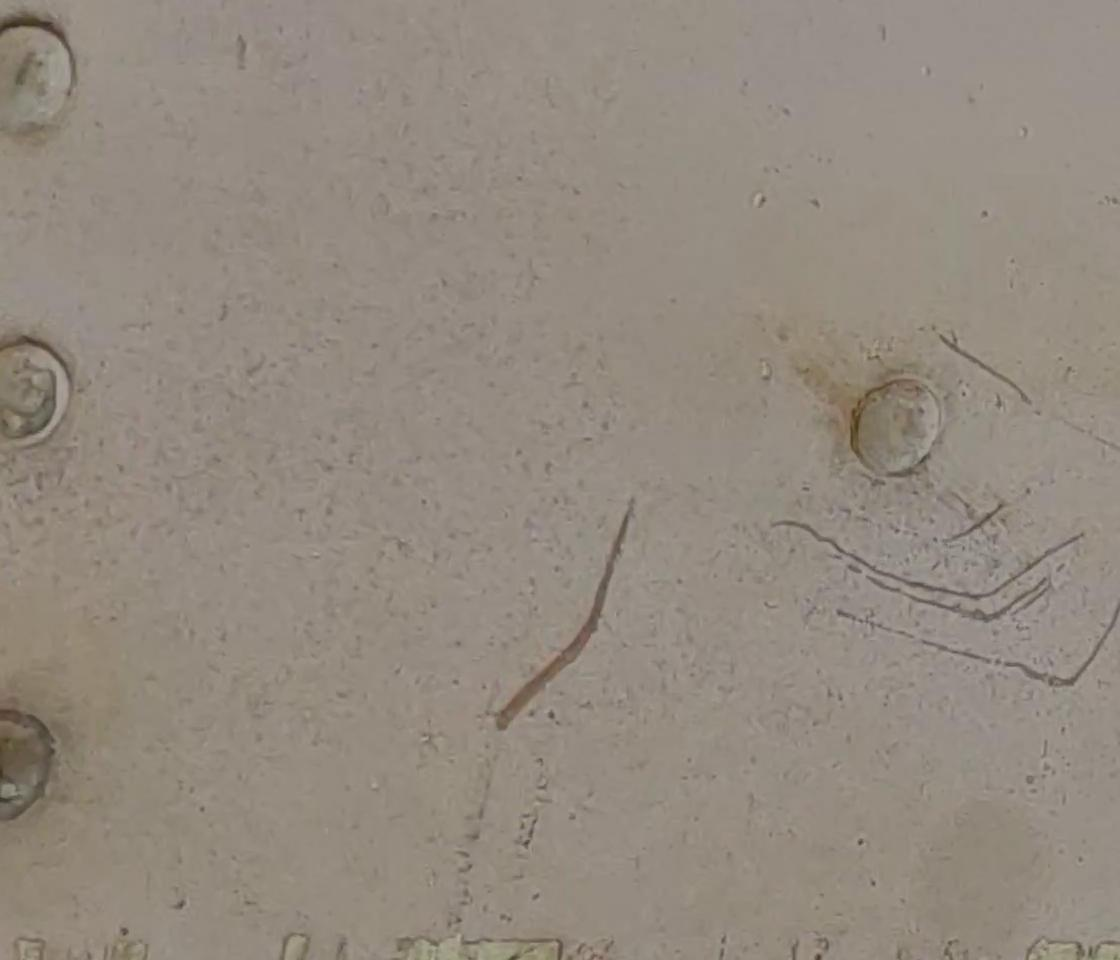scratch: (467, 495, 637, 742), (930, 325, 1038, 415)
